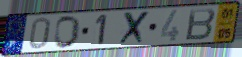0: (27, 16, 52, 51)
1: (94, 13, 107, 47)
4: (159, 8, 181, 44)
B: (184, 7, 217, 42)
O: (53, 14, 82, 50)
X: (117, 9, 152, 47)
